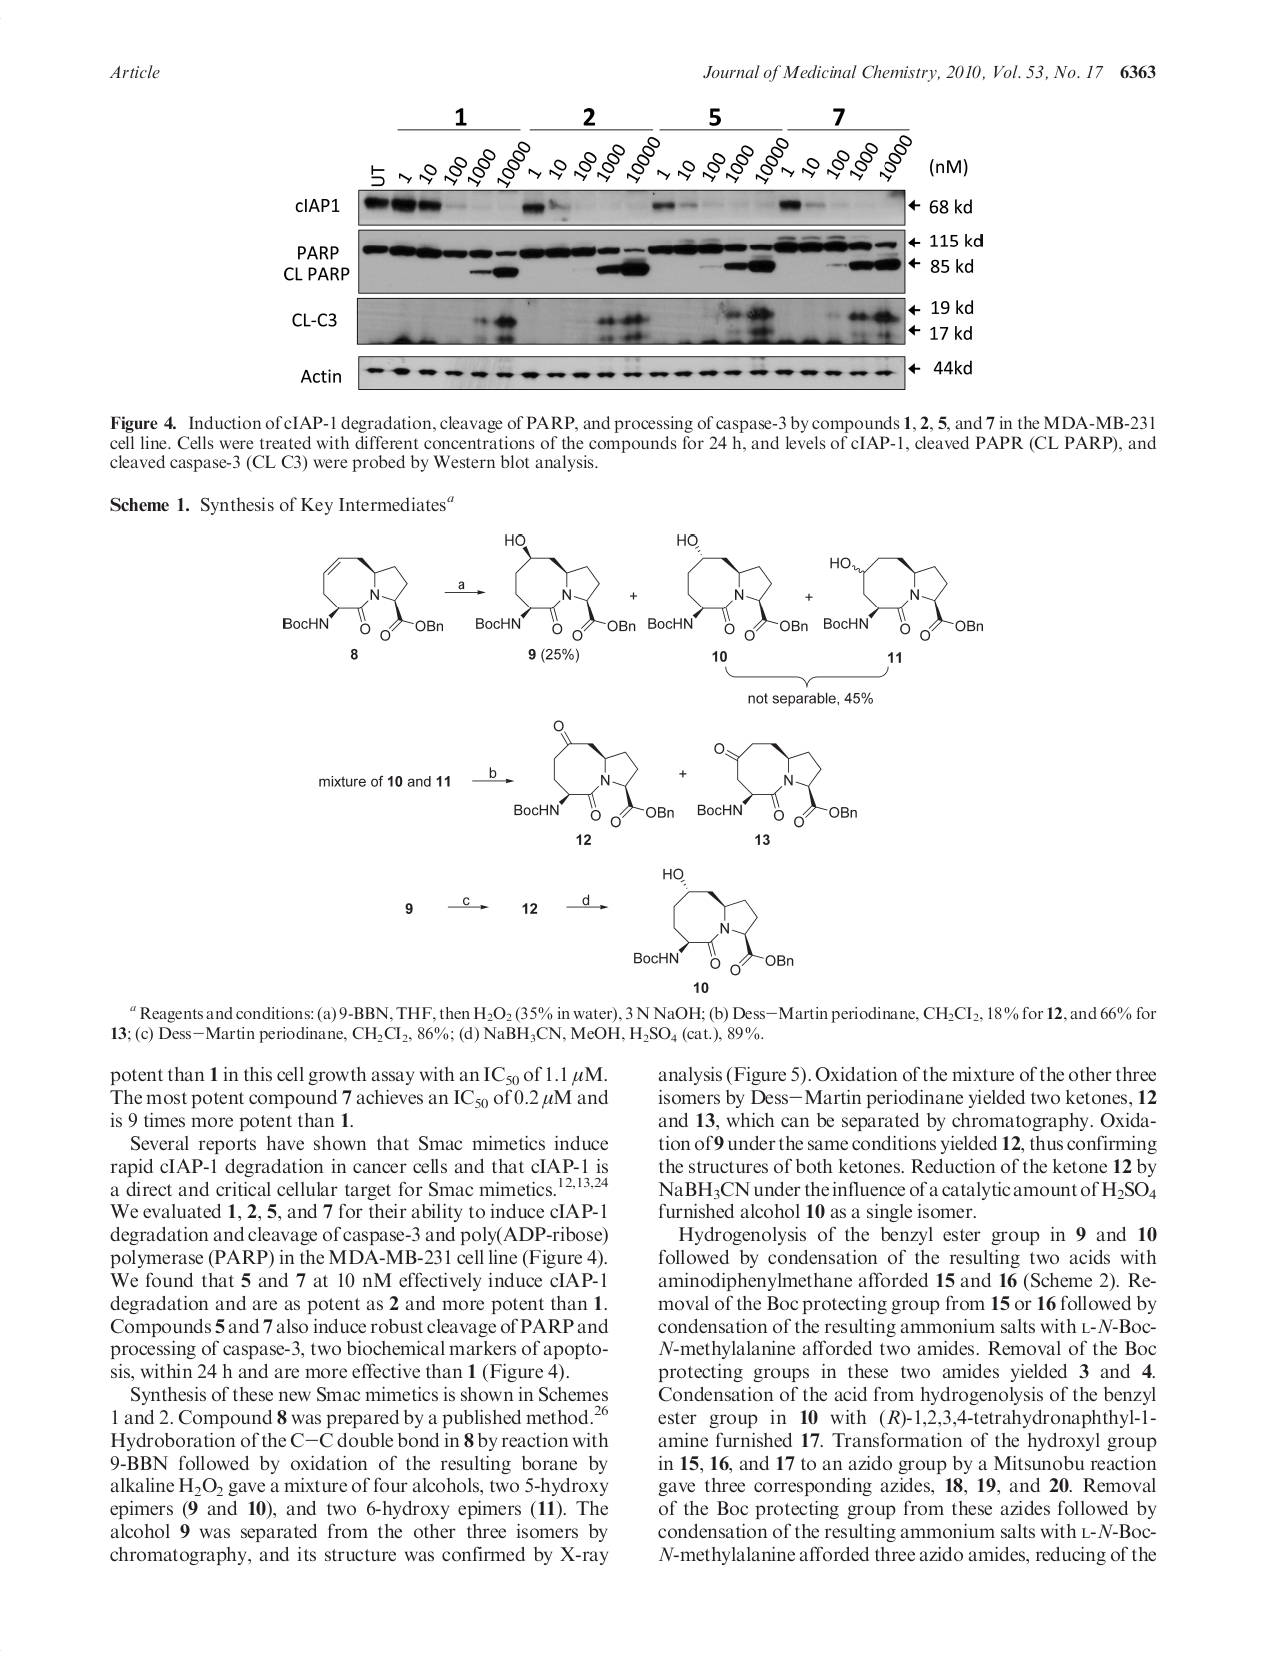exist_molecular: (644, 529, 995, 646), (471, 529, 637, 665), (626, 864, 797, 977), (512, 717, 678, 831), (274, 551, 449, 646), (693, 737, 863, 830)
